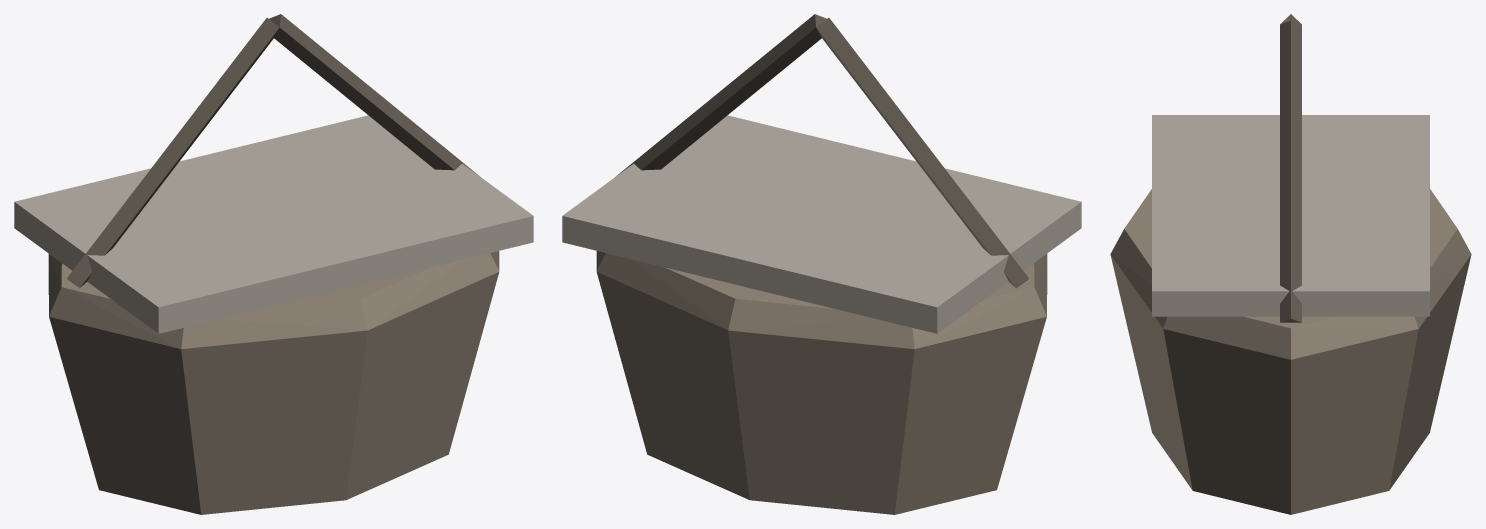
Rendered from basket.glb.
The picture shows the model from 3 angles, left to right: view 1: azimuth 30°, elevation 25°; view 2: azimuth 150°, elevation 25°; view 3: azimuth 270°, elevation 25°; orthographic projection. The views are drawn at different scales.
Visible parts, largest first — view 1: basket; view 2: basket; view 3: basket.
Boxes of the visible parts, x1,y1,x2,y2 form: basket: (14, 14, 533, 514); basket: (562, 14, 1081, 514); basket: (1110, 14, 1471, 514).
Size of the model in its own units: 0.36 by 0.33 by 0.26.
